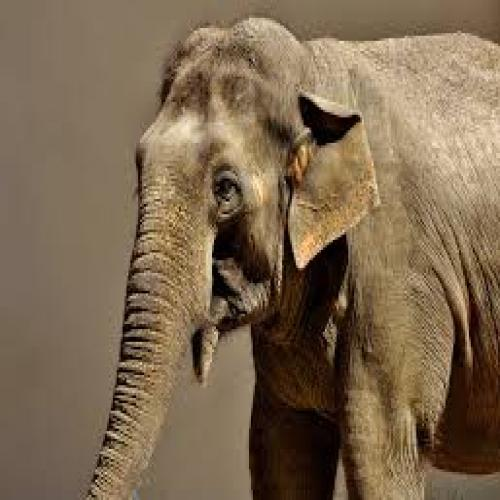asian_elephant-endangered: (85, 22, 500, 500)
